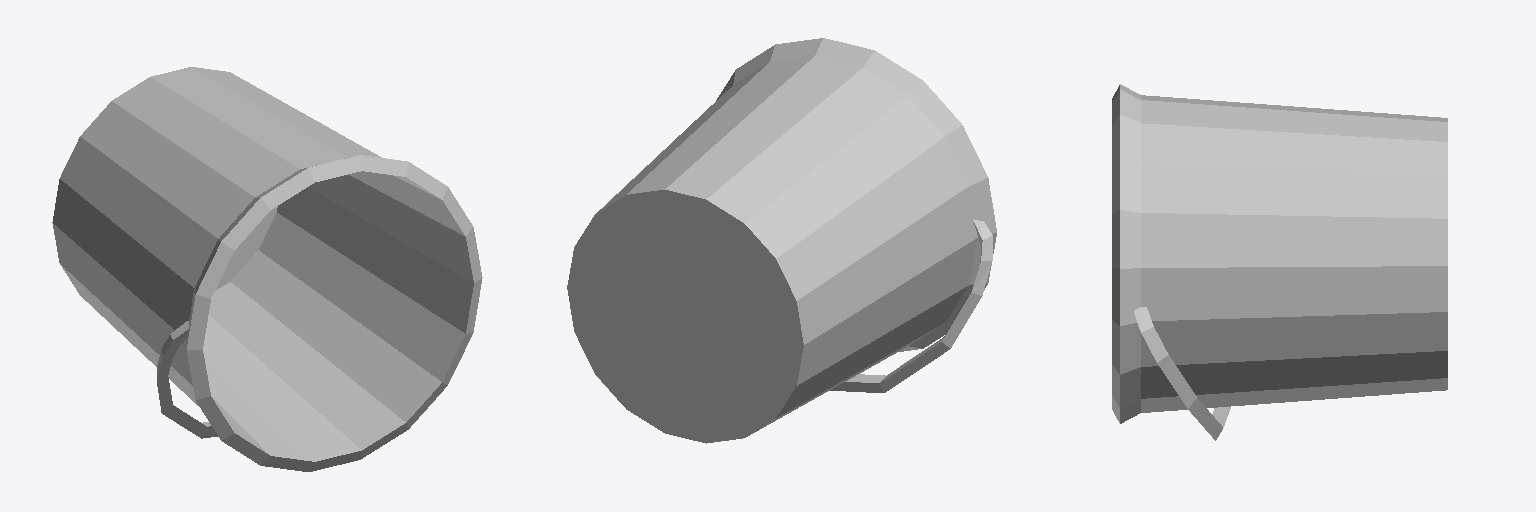
The model's file is bucket.obj.
3 renders of one model, left to right at view 1: azimuth 30°, elevation 25°; view 2: azimuth 150°, elevation 25°; view 3: azimuth 270°, elevation 25°, orthographic.
Parts seen in each view (by area): view 1: bucket; view 2: bucket; view 3: bucket.
Part boxes in pixels (left/top/right/bottom): bucket: left=52, top=67, right=482, bottom=471; bucket: left=567, top=38, right=996, bottom=443; bucket: left=1112, top=84, right=1447, bottom=440.
Size of the model in its own units: 19.47 by 18 by 17.81.